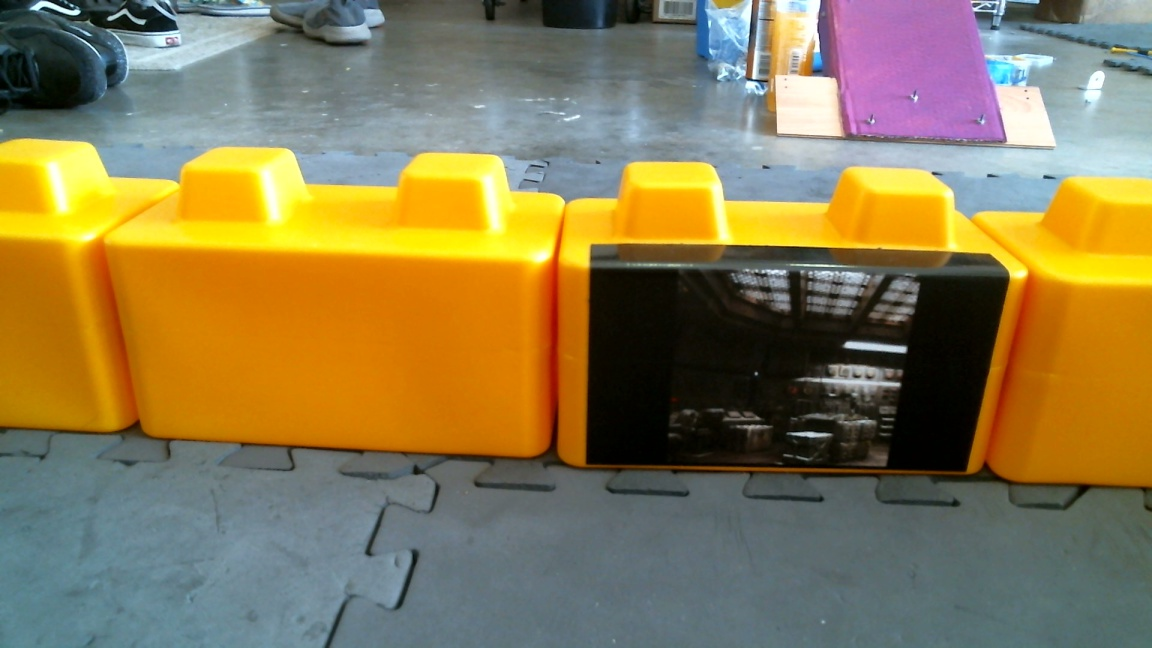right: (1, 132, 994, 492)
